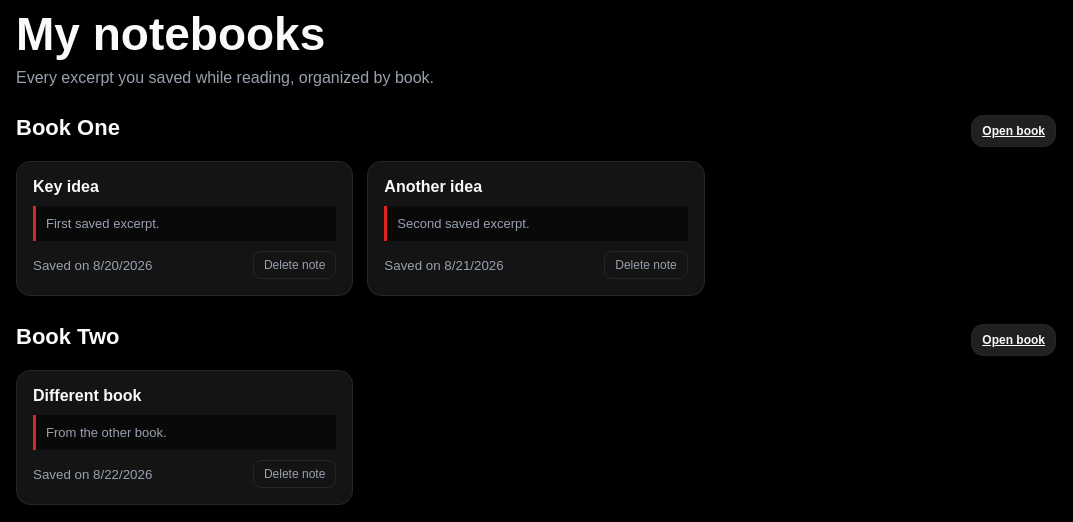
Test: my notebooks › deletes a note after confirmation and removes it from the list
The width and height of the screenshot is (1073, 522).
Step 1. Click the button "Delete note" next to "Saved on 8/20/2026" → click(295, 265), box [253,251,336,279]
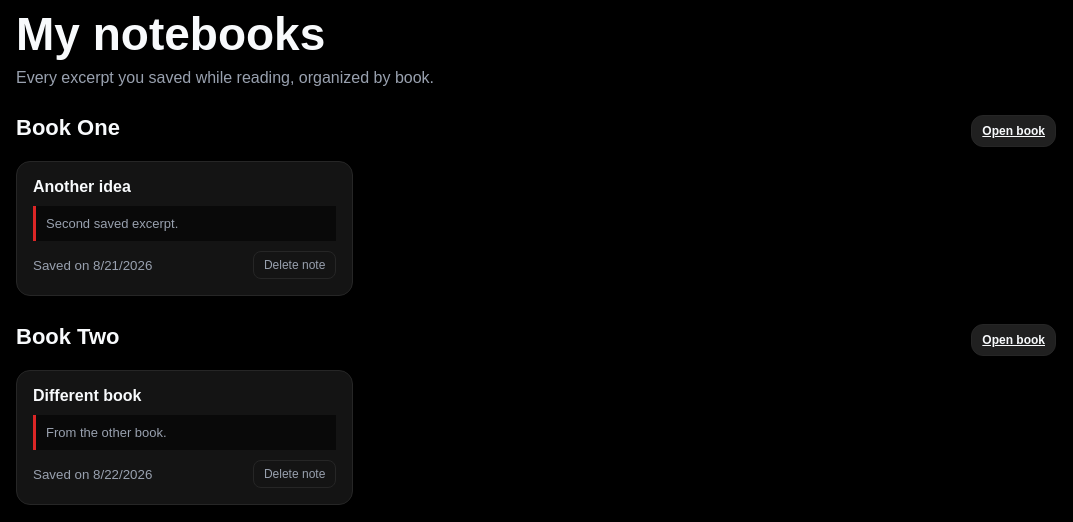
Expected: the heading "Another idea" is shown, [33,178,131,195]
Now the heading "Key idea" is gone
